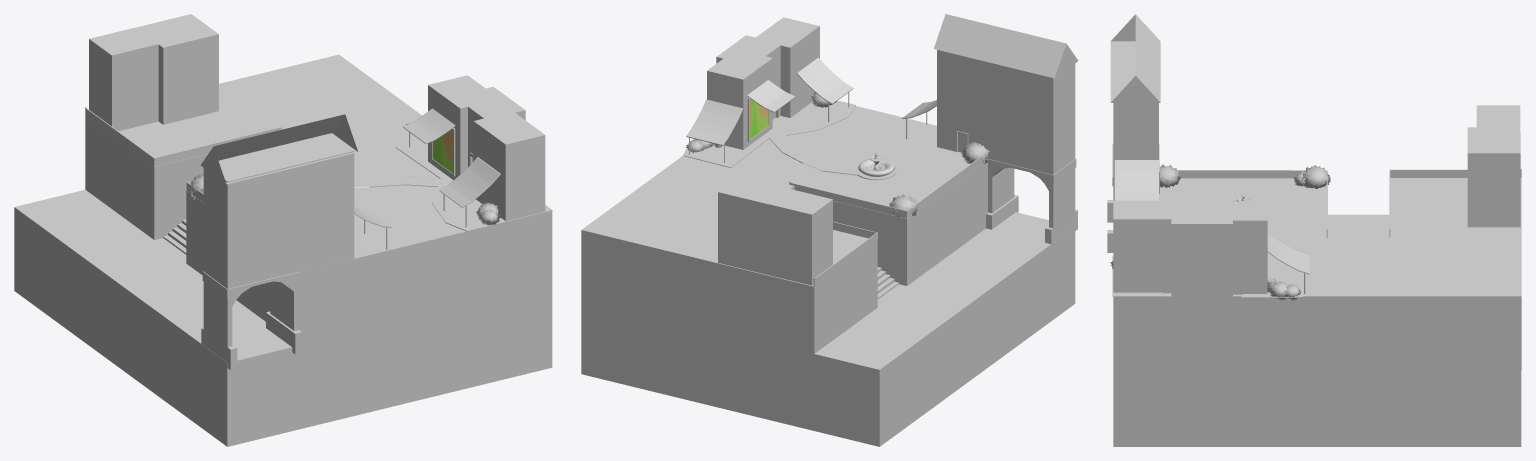
The model's file is hub.fbx.
The picture shows the model from 3 angles, left to right: view 1: azimuth 30°, elevation 25°; view 2: azimuth 150°, elevation 25°; view 3: azimuth 270°, elevation 25°; orthographic projection. The views are drawn at different scales.
Visible parts, largest first — view 1: Plane, Cube.003, Cube, Cube.001, Cube.005, Plane.007, Plane.011, Plane.005, Cube.002, Cube.004, Plane.003, Plane.010 (+2 smaller); view 2: Plane, Cube.003, Cube, Plane.011, Cube.001, Plane.007, Plane.005, Cube.002, Cube.005, Plane.001, Plane.009, Plane.003 (+5 smaller); view 3: Plane, Cube.005, Cube.001, Cube.004, Cube.003, Cube.002, Plane.011, Plane.002, Plane.009, Plane.005, Cube, Plane.001 (+3 smaller).
Part boxes in pixels (x1=…): Plane: x1=14, y1=54, x2=552, y2=446; Cube.003: x1=203, y1=133, x2=354, y2=288; Cube: x1=89, y1=27, x2=158, y2=131; Cube.001: x1=136, y1=14, x2=218, y2=124; Cube.005: x1=473, y1=112, x2=545, y2=220; Plane.007: x1=201, y1=271, x2=301, y2=370; Plane.011: x1=200, y1=114, x2=357, y2=184; Plane.005: x1=354, y1=141, x2=552, y2=231; Cube.002: x1=428, y1=75, x2=485, y2=180; Cube.004: x1=454, y1=86, x2=525, y2=166; Plane.003: x1=439, y1=157, x2=500, y2=207; Plane.010: x1=85, y1=107, x2=281, y2=166; Plane: x1=581, y1=106, x2=1075, y2=446; Cube.003: x1=937, y1=50, x2=1075, y2=174; Cube: x1=769, y1=189, x2=832, y2=285; Plane.011: x1=933, y1=14, x2=1078, y2=78; Cube.001: x1=718, y1=173, x2=794, y2=274; Plane.007: x1=986, y1=158, x2=1077, y2=243; Plane.005: x1=683, y1=100, x2=858, y2=175; Cube.002: x1=707, y1=49, x2=772, y2=149; Cube.005: x1=754, y1=17, x2=819, y2=117; Plane.001: x1=686, y1=99, x2=742, y2=145; Plane.009: x1=789, y1=154, x2=987, y2=218; Plane.003: x1=797, y1=57, x2=853, y2=104; Plane: x1=1113, y1=178, x2=1521, y2=446; Cube.005: x1=1113, y1=200, x2=1174, y2=293; Cube.001: x1=1467, y1=127, x2=1520, y2=227; Cube.004: x1=1171, y1=205, x2=1232, y2=298; Cube.003: x1=1113, y1=41, x2=1159, y2=200; Cube.002: x1=1206, y1=202, x2=1267, y2=294; Plane.011: x1=1110, y1=14, x2=1160, y2=102; Plane.002: x1=1114, y1=160, x2=1158, y2=200; Plane.009: x1=1177, y1=170, x2=1327, y2=237; Plane.005: x1=1112, y1=230, x2=1311, y2=297; Cube: x1=1476, y1=105, x2=1520, y2=127; Plane.001: x1=1267, y1=232, x2=1309, y2=274.
Bounding box in the file's own units: 8292 × 6970 × 9343.
